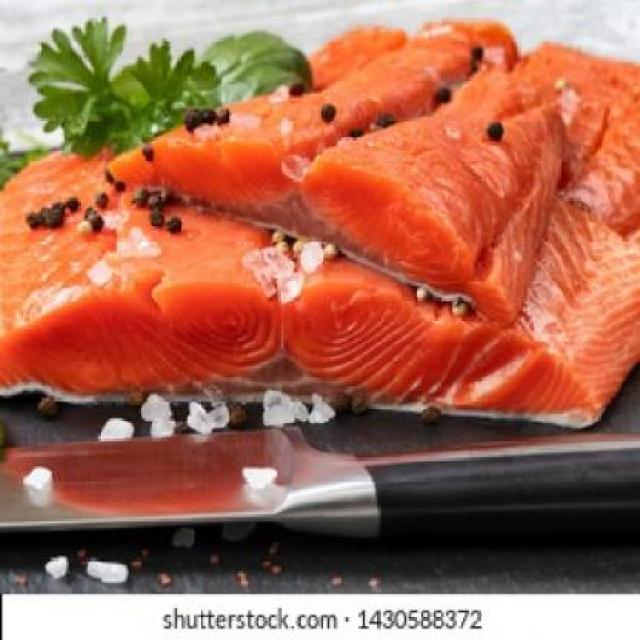salmon: (3, 120, 640, 468), (106, 46, 573, 327)
